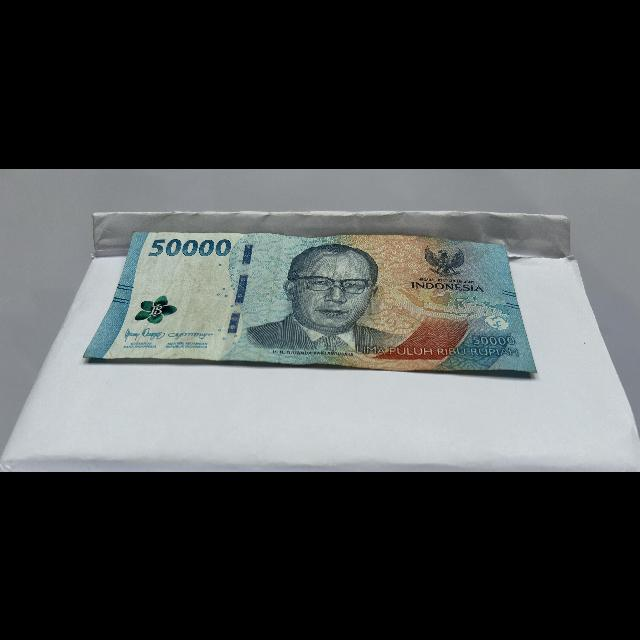Asli-50k: (79, 225, 544, 377)
Tinta-Asli-50k: (131, 293, 182, 324)
